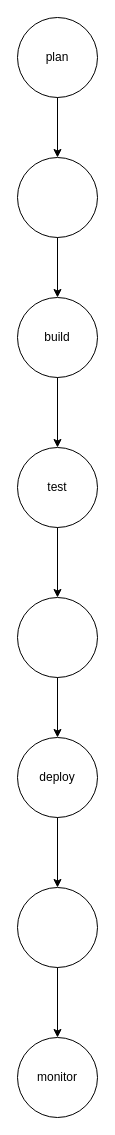
Some shapes in this 115 by 1135 pixel diagram are drawn without their labels. Each missing label, with the centre of its shape:
devlope: pixel 57 197
operate: pixel 57 927
release: pixel 57 637
